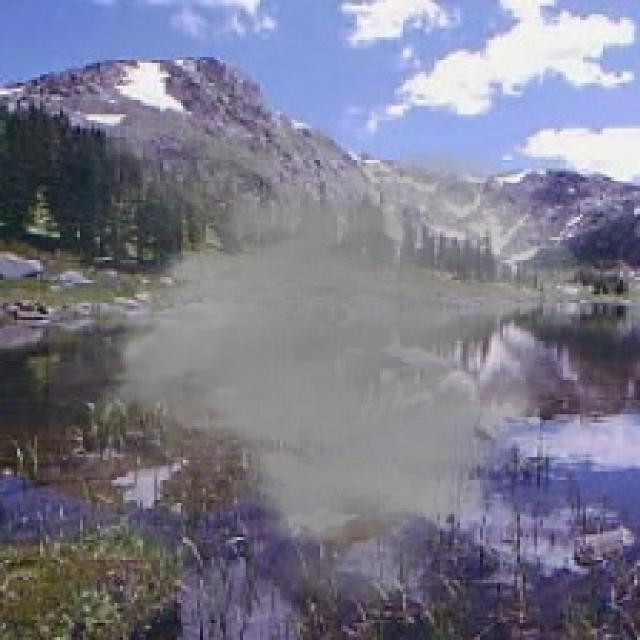smoke: (48, 89, 583, 620)
